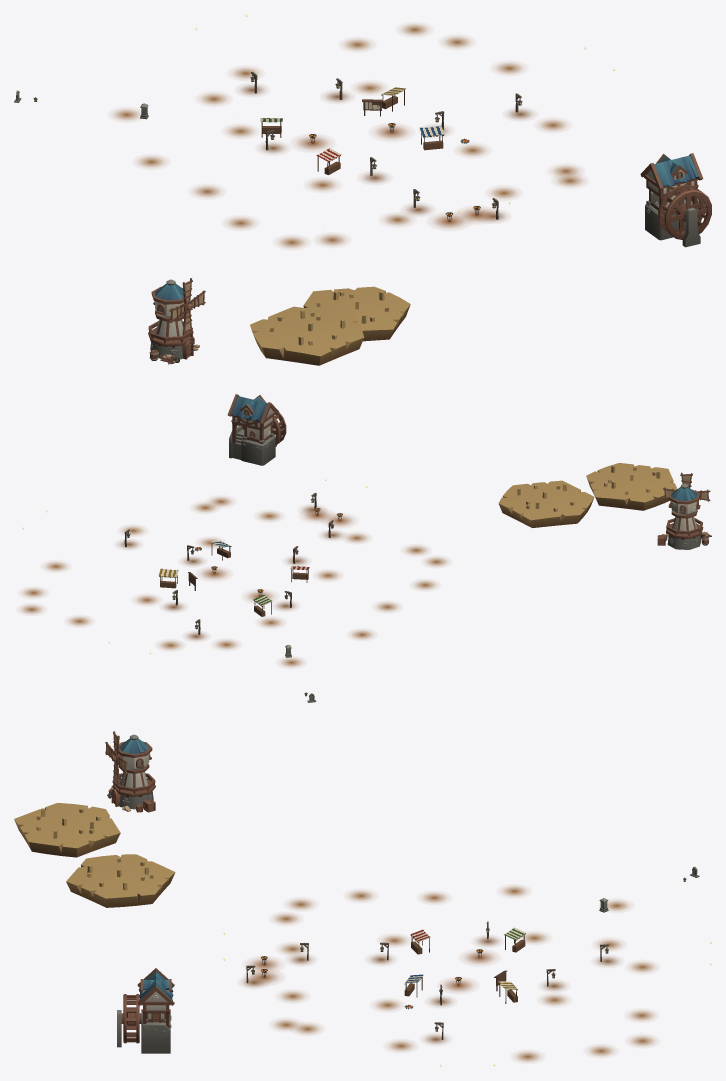
Rendered from landmarks.glb.
3 renders of one model, top to bottom at view 1: azimuth 30°, elevation 25°; view 2: azimuth 150°, elevation 25°; view 3: azimuth 270°, elevation 25°, orthographic. The views are drawn at different scales.
Visible parts, largest first — view 1: kk-hex_buildings-building_grain-3, kk-hex_buildings-building_watermill_blue-1, kk-hex_buildings-building_windmill_blue-0, kk-hex_buildings-building_grain-2; view 2: kk-hex_buildings-building_grain-2, kk-hex_buildings-building_grain-3, kk-hex_buildings-building_watermill_blue-1, kk-hex_buildings-building_windmill_blue-0; view 3: kk-hex_buildings-building_grain-2, kk-hex_buildings-building_grain-3, kk-hex_buildings-building_watermill_blue-1, kk-hex_buildings-building_windmill_blue-0.
Boxes of the visible parts, <box> form: kk-hex_buildings-building_grain-3: <box>250,306,364,365</box>; kk-hex_buildings-building_watermill_blue-1: <box>640,153,711,247</box>; kk-hex_buildings-building_windmill_blue-0: <box>148,278,205,364</box>; kk-hex_buildings-building_grain-2: <box>303,286,410,341</box>; kk-hex_buildings-building_grain-2: <box>498,480,594,527</box>; kk-hex_buildings-building_grain-3: <box>586,463,677,510</box>; kk-hex_buildings-building_watermill_blue-1: <box>227,394,286,465</box>; kk-hex_buildings-building_windmill_blue-0: <box>657,472,711,549</box>; kk-hex_buildings-building_grain-2: <box>66,854,175,907</box>; kk-hex_buildings-building_grain-3: <box>14,803,120,857</box>; kk-hex_buildings-building_watermill_blue-1: <box>117,968,174,1053</box>; kk-hex_buildings-building_windmill_blue-0: <box>105,731,155,812</box>.
Size of the model in its own units: 102 by 13.55 by 105.
130 materials, 40 textured.
